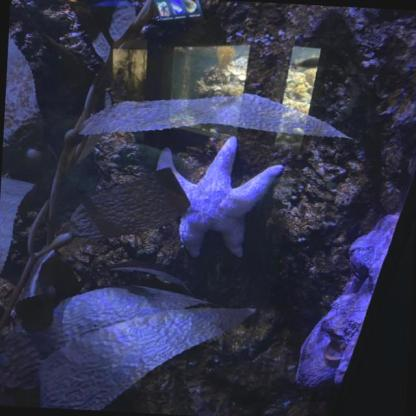starfish: (153, 131, 286, 261)
